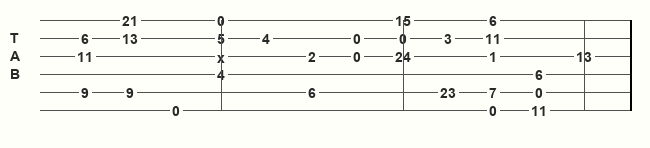0: (172, 103, 184, 117), (217, 13, 229, 27), (353, 49, 365, 63), (353, 31, 365, 45), (399, 31, 411, 45), (489, 103, 501, 117), (535, 85, 547, 99)
1: (489, 49, 501, 63)
11: (77, 49, 97, 63), (485, 31, 505, 45), (531, 103, 551, 117)
13: (122, 31, 142, 45), (576, 49, 596, 63)
15: (395, 13, 415, 27)
2: (308, 49, 320, 63)
21: (122, 13, 142, 27)
23: (440, 85, 460, 99)
24: (395, 49, 415, 63)
3: (444, 31, 456, 45)
4: (217, 67, 229, 81), (262, 31, 274, 45)
5: (217, 31, 229, 45)
6: (81, 31, 93, 45), (308, 85, 320, 99), (489, 13, 501, 27), (535, 67, 547, 81)
7: (489, 85, 501, 99)
9: (81, 85, 93, 99), (126, 85, 138, 99)
x: (217, 50, 229, 62)
